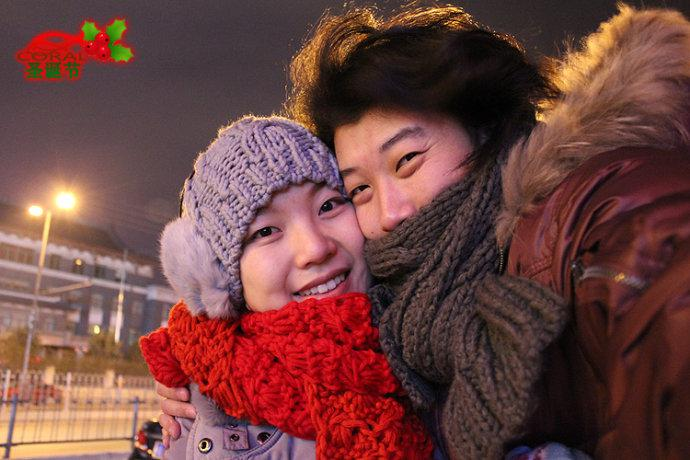NONE: (240, 181, 369, 310)
WRONG: (342, 120, 468, 267)
